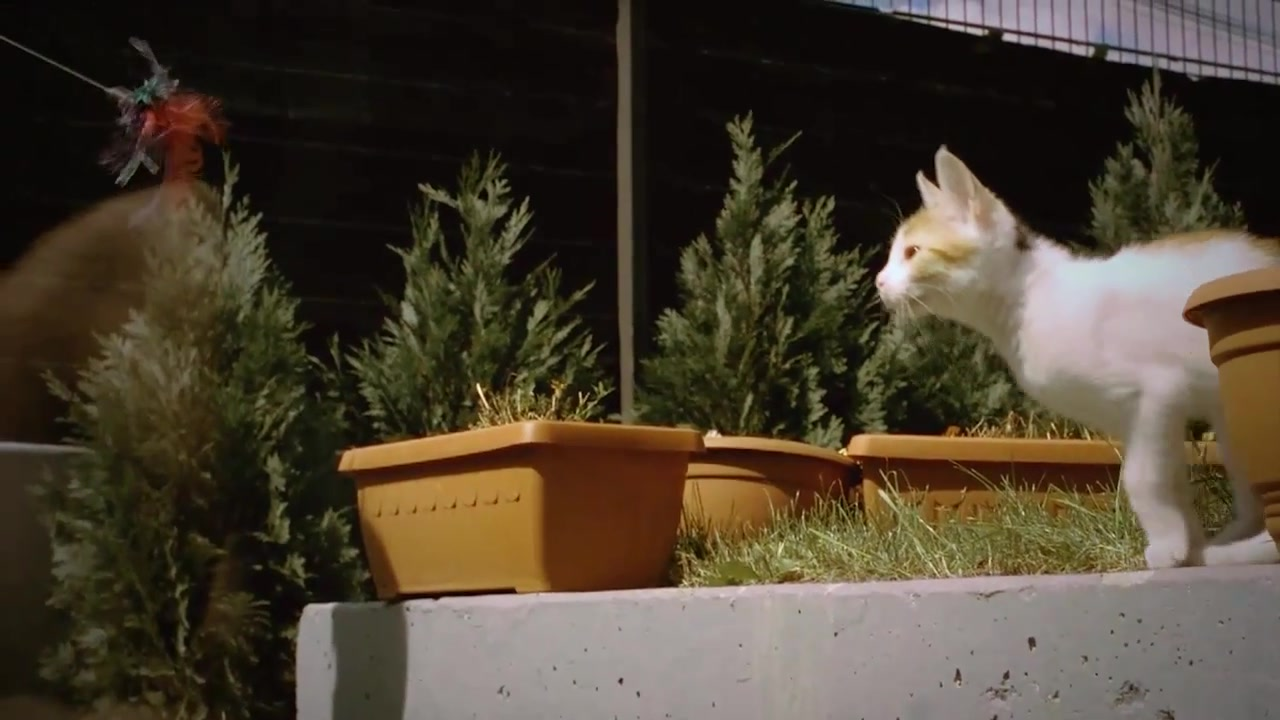cat: (874, 146, 1280, 568)
